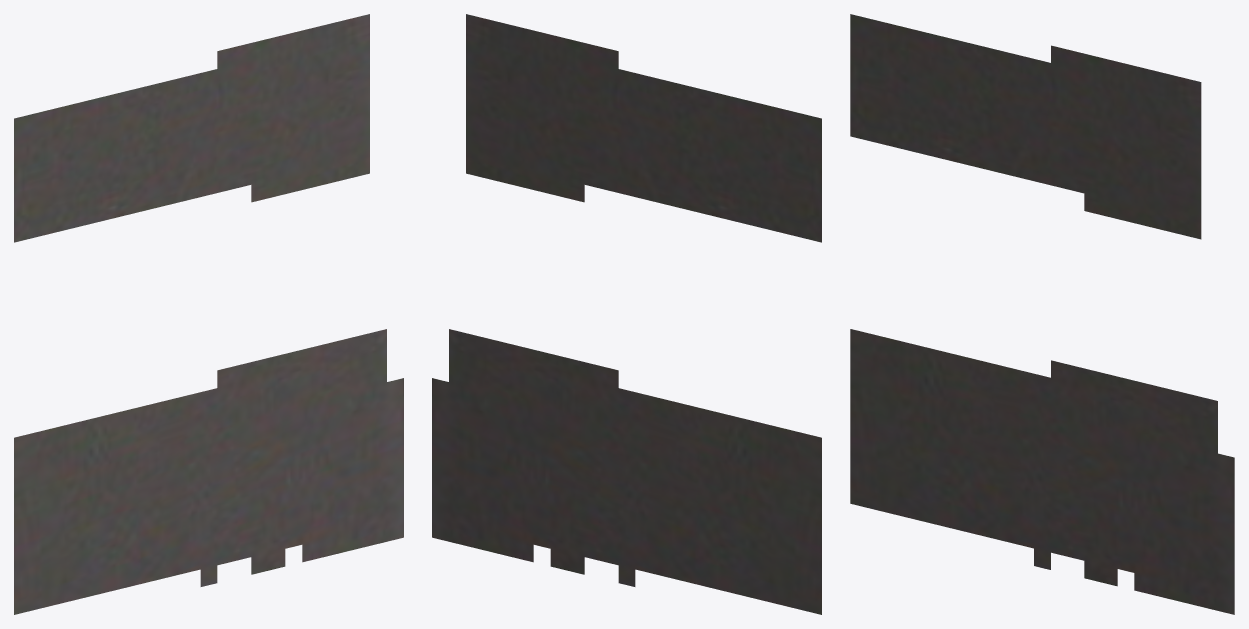
Rendered from region.obj.
3 renders of one model, left to right at view 1: azimuth 30°, elevation 25°; view 2: azimuth 150°, elevation 25°; view 3: azimuth 330°, elevation 25°, orthographic.
Parts seen in each view (by area): view 1: owned_material_region; view 2: owned_material_region; view 3: owned_material_region.
Part boxes in pixels (x1,y1,x2,y2): owned_material_region: [14, 14, 403, 614]; owned_material_region: [432, 14, 821, 614]; owned_material_region: [850, 14, 1234, 614].
Bounding box in the file's own units: 0.7667 × 1 × 0.
1 material, 1 textured.
